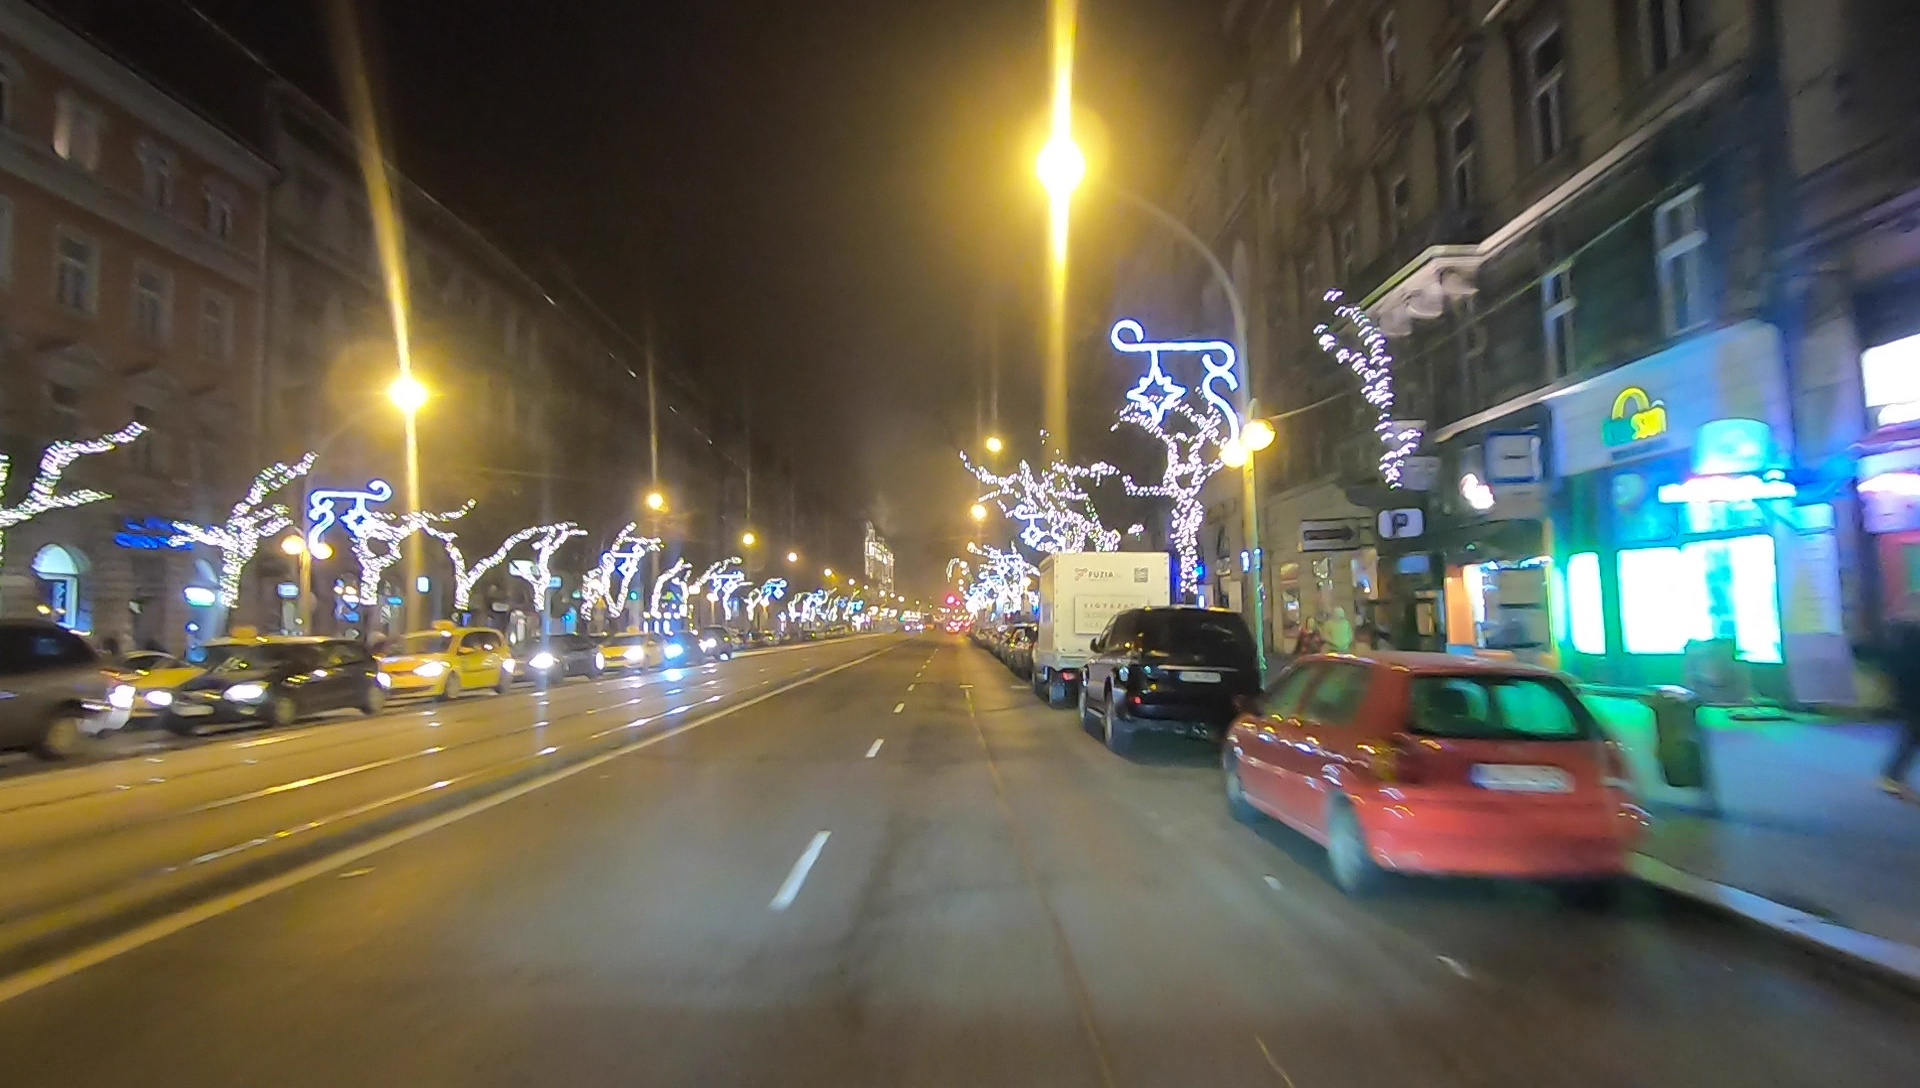person: (1880, 608, 1920, 784), (1293, 619, 1325, 697), (1325, 608, 1352, 691)
